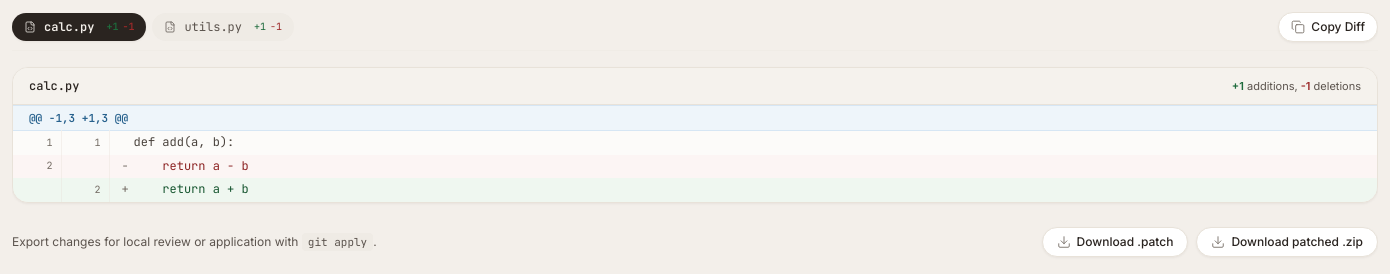
it: DiffViewer › switches files in multi-file diff view
Expected: the text "utils.py" is shown, [184,19,242,35]
Expected: the text "return a - b" is shown, [134,158,249,174]
Note: Click utils.py tab
Click the button "utils.py +1 -1": (223,27) [152,13,294,41]
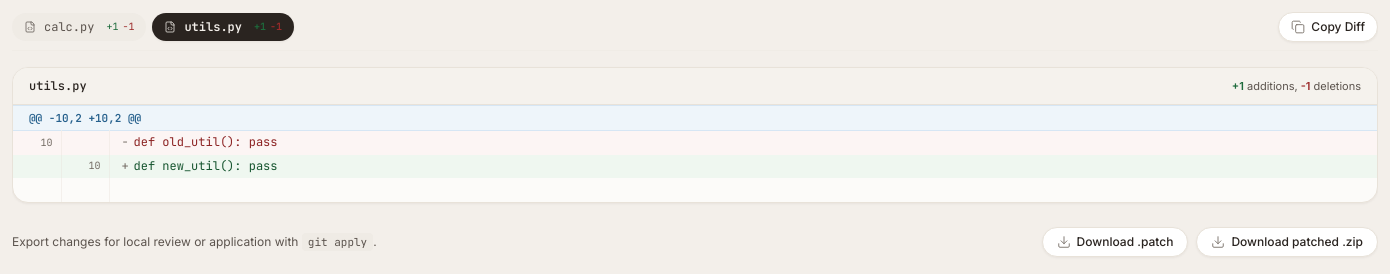
Now the text "def old_util(): pass" is shown, box [134,134,278,150]
Now the text "def new_util(): pass" is shown, box [134,158,278,174]
